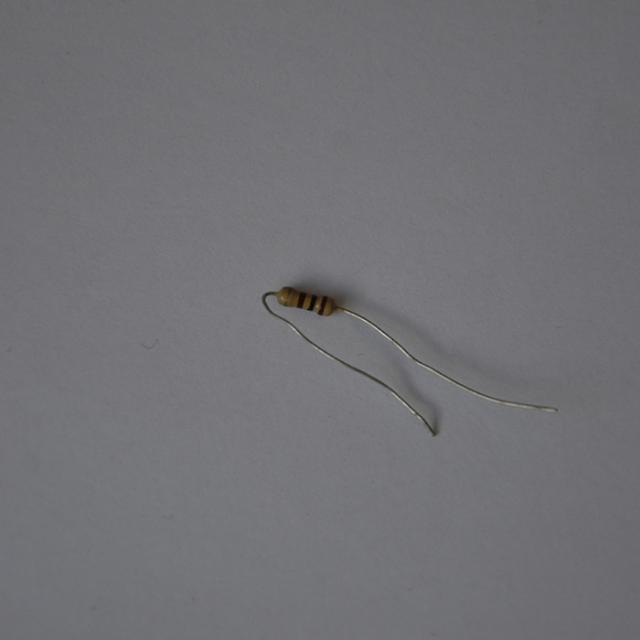black: (309, 294, 317, 311)
brown: (318, 297, 327, 315), (296, 293, 306, 308)
gold: (283, 287, 293, 304)
resistor: (272, 280, 344, 327)
